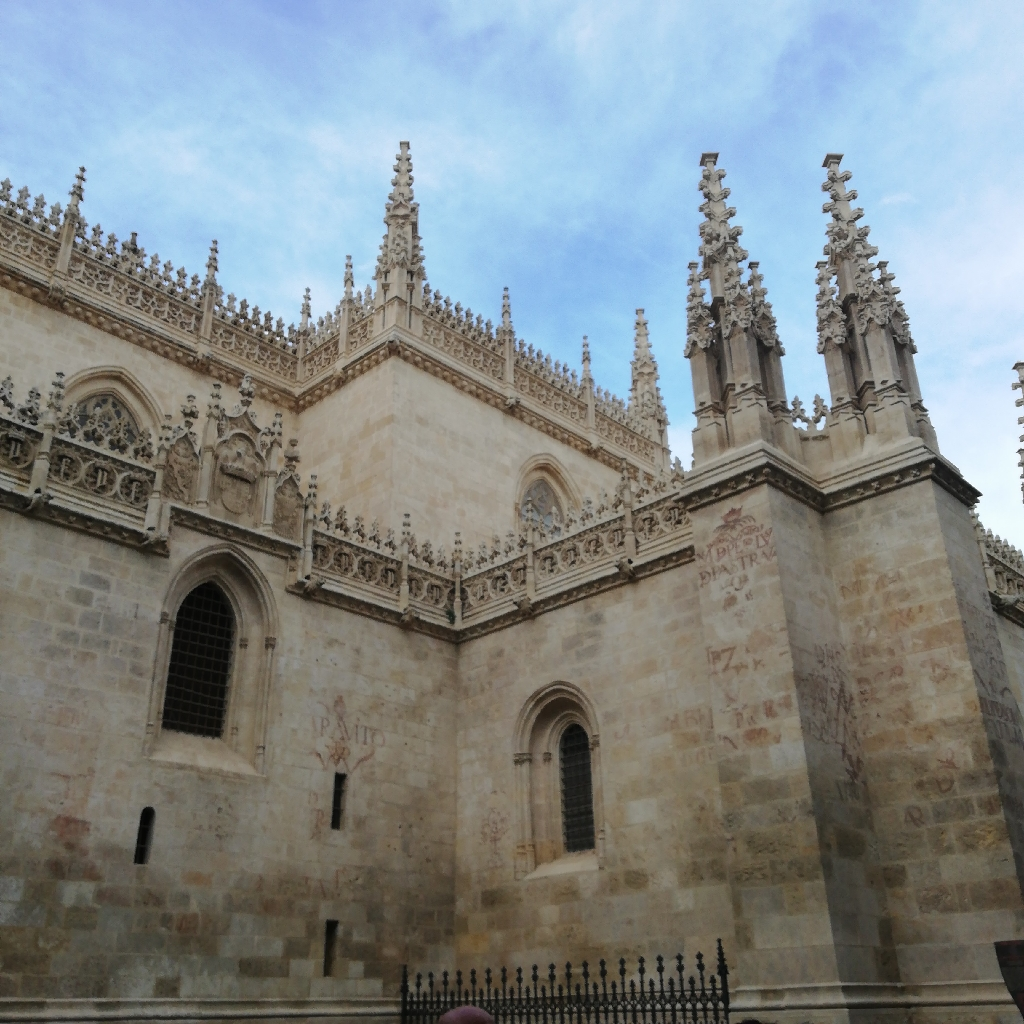arco-apuntado: (154, 548, 262, 641), (511, 684, 605, 759)
pinaculo-gotico: (808, 145, 911, 347), (684, 143, 764, 303), (370, 129, 428, 269), (621, 304, 667, 406)
